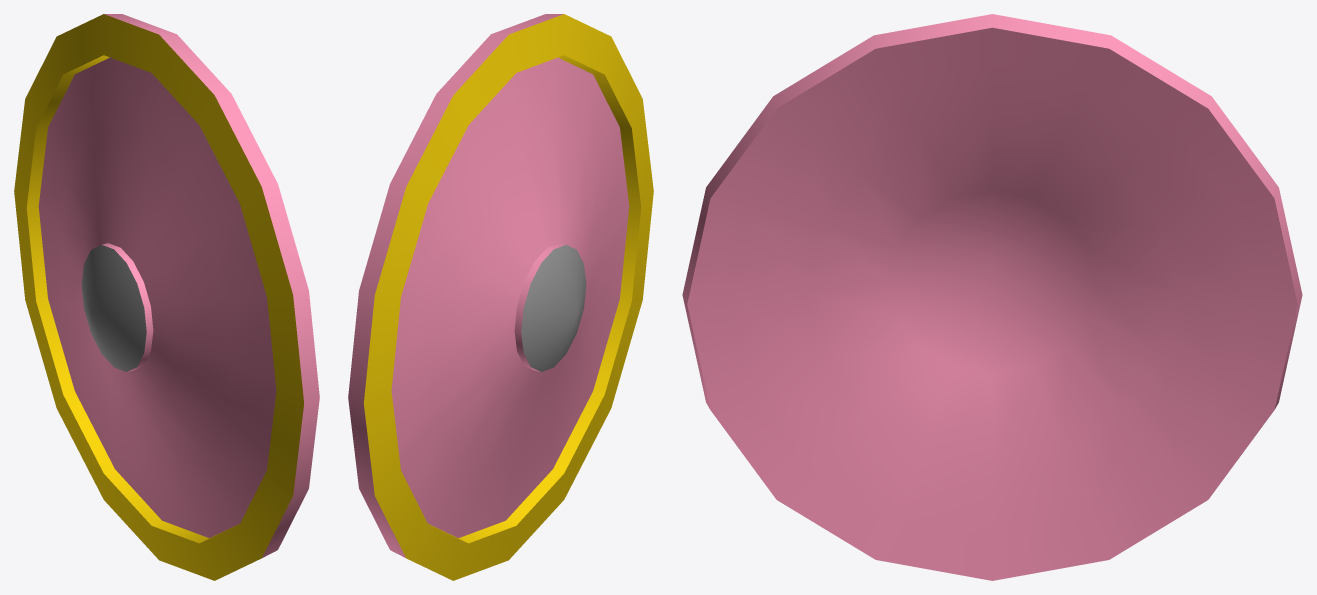
File: Shield.FBX
The picture shows the model from 3 angles, left to right: view 1: azimuth 30°, elevation 25°; view 2: azimuth 150°, elevation 25°; view 3: azimuth 270°, elevation 25°; orthographic projection. The views are drawn at different scales.
Visible parts, largest first — view 1: shield2; view 2: shield2; view 3: shield2.
Boxes of the visible parts, x1,y1,x2,y2 form: shield2: [14, 14, 319, 580]; shield2: [348, 14, 653, 580]; shield2: [682, 14, 1302, 580].
Size of the model in its own units: 2.09 by 12.29 by 12.29.
